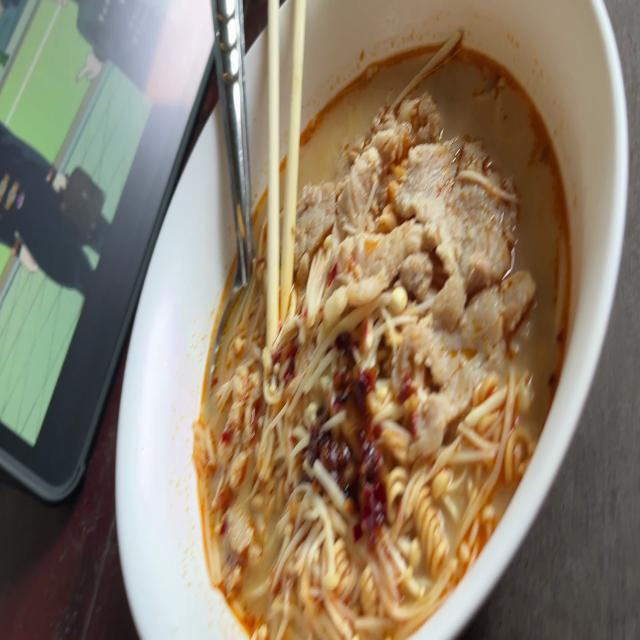noodle: (190, 35, 582, 640)
